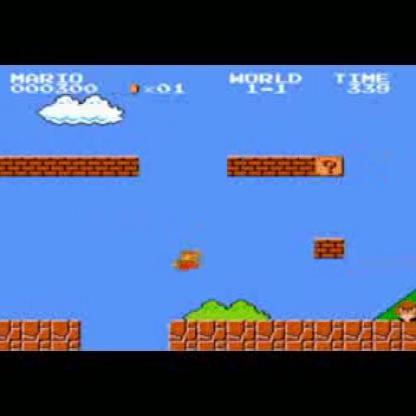Goomba: (393, 298, 415, 322)
Hoyo: (76, 318, 174, 354)
